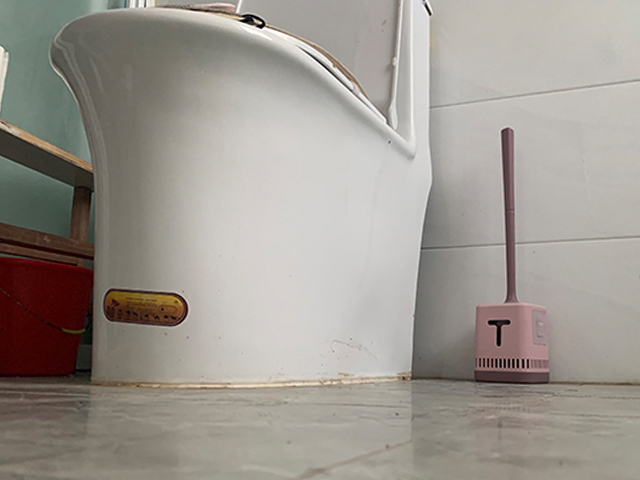closestool: (45, 1, 433, 387)
